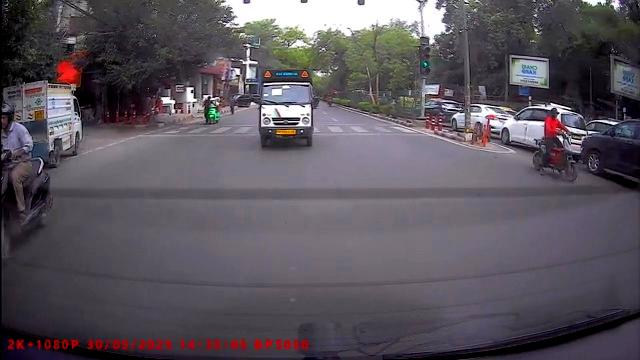motorcycle_with_helmet: (531, 105, 578, 184)
